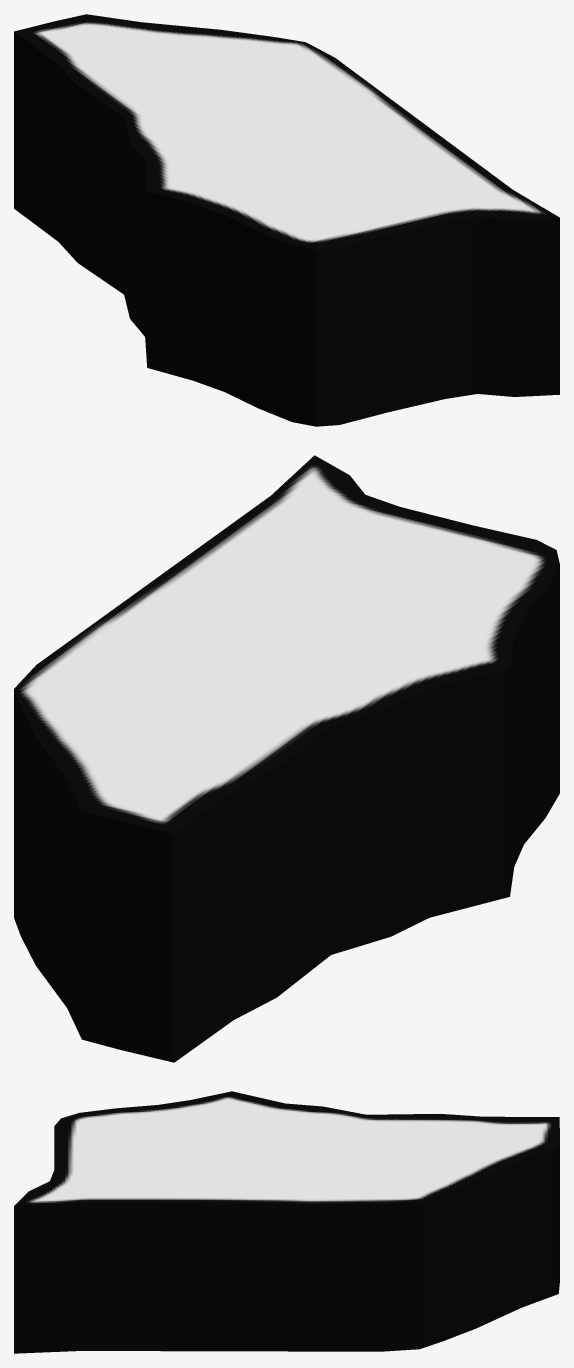
The picture shows the model from 3 angles, top to bottom: view 1: azimuth 30°, elevation 25°; view 2: azimuth 150°, elevation 25°; view 3: azimuth 270°, elevation 25°; orthographic projection. The views are drawn at different scales.
Visible parts, largest first — view 1: polySurface19; view 2: polySurface19; view 3: polySurface19.
Part boxes in pixels (x1,y1,x2,y2): polySurface19: (14, 14, 559, 426); polySurface19: (14, 455, 559, 1062); polySurface19: (14, 1091, 559, 1353).
Size of the model in its own units: 0.833 by 0.5 by 1.68.
